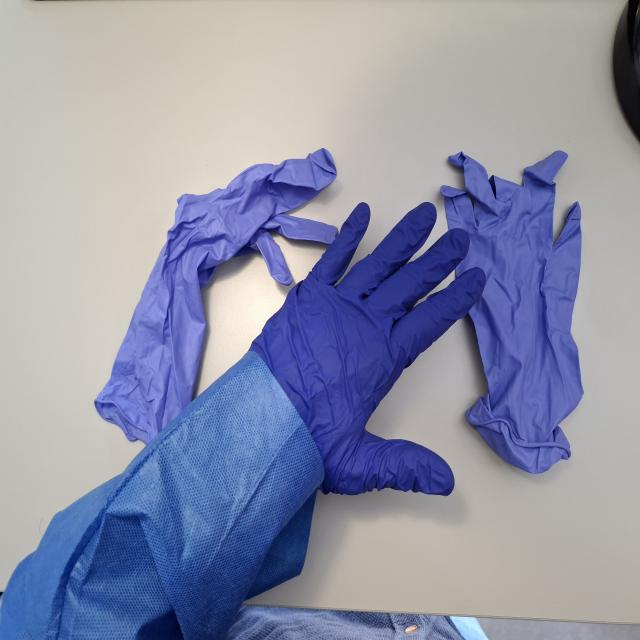glove_on: (243, 199, 489, 499)
